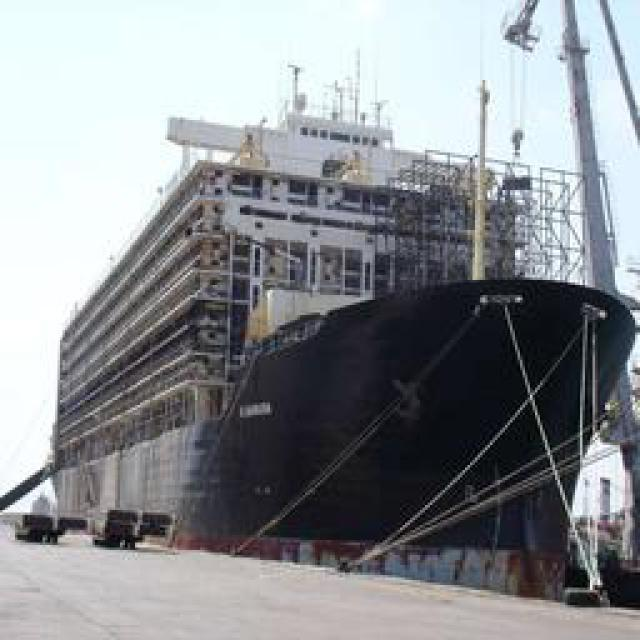Ship: (5, 53, 640, 612)
